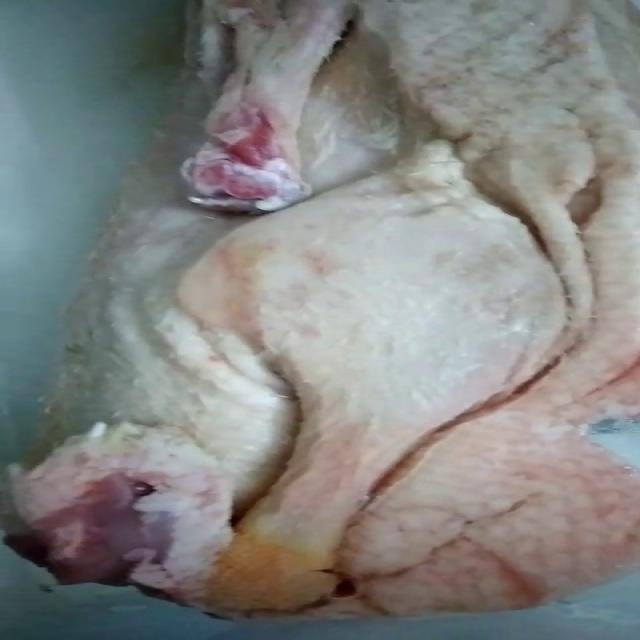chicken: (3, 0, 638, 623)
